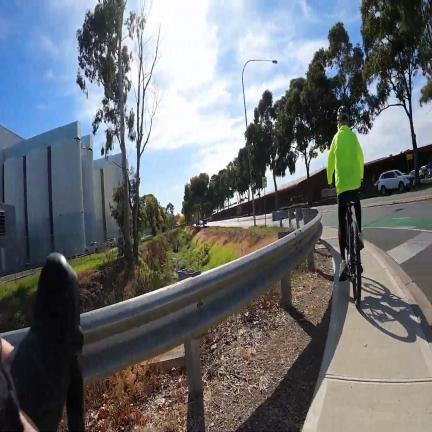Green_Bike_Lane: (362, 217, 432, 229)
